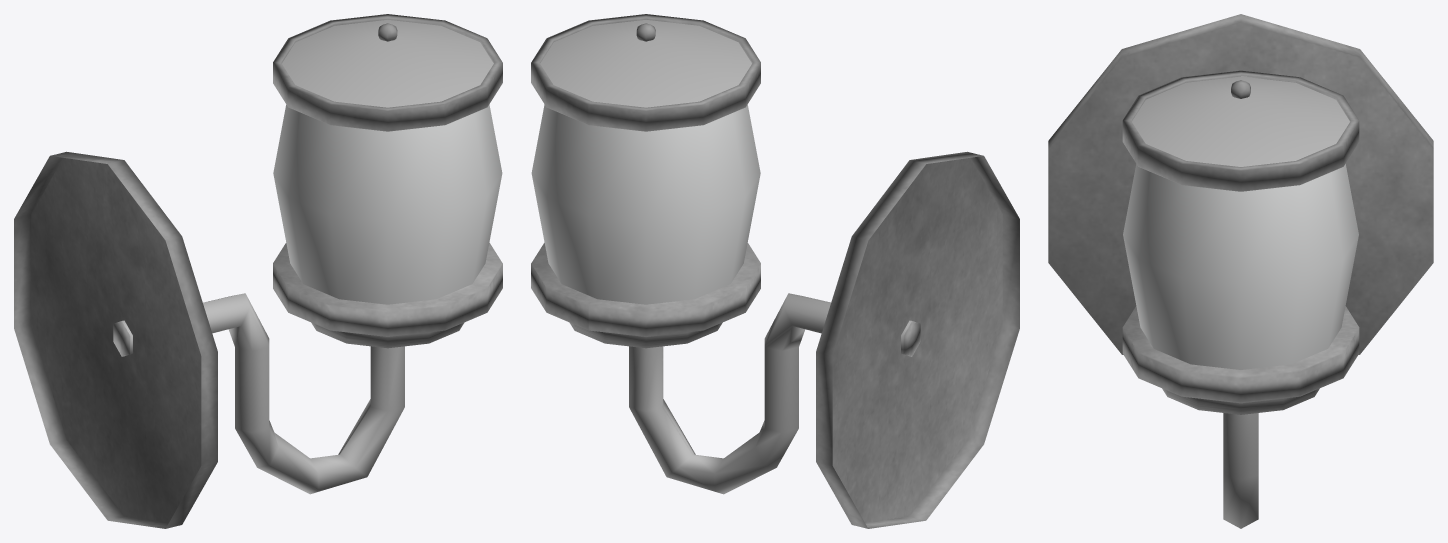
File: StageLantern.fbx
3 renders of one model, left to right at view 1: azimuth 30°, elevation 25°; view 2: azimuth 150°, elevation 25°; view 3: azimuth 270°, elevation 25°, orthographic. The views are drawn at different scales.
Parts seen in each view (by area): view 1: Object_2.001; view 2: Object_2.001; view 3: Object_2.001.
Part boxes in pixels (x1=…): Object_2.001: x1=14, y1=14, x2=502, y2=528; Object_2.001: x1=531, y1=14, x2=1019, y2=528; Object_2.001: x1=1048, y1=14, x2=1433, y2=528.
Bounding box in the file's own units: 2206 × 2502 × 1882.
